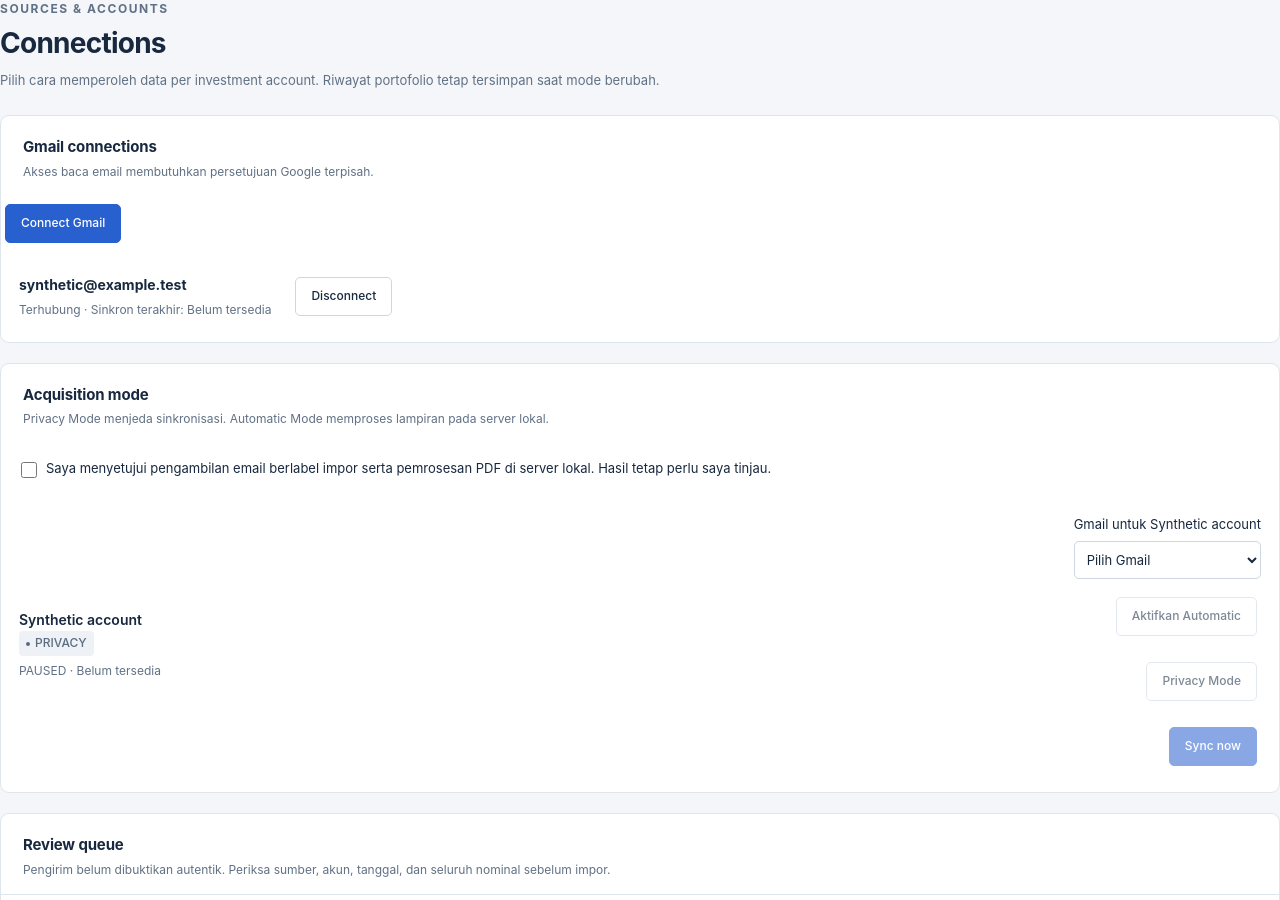
requires consent and a selected Gmail then shows mode/status without a reload
Expected: the button "Aktifkan Automatic" is disabled, [1116,597,1257,636]
Select "synthetic@example.test" in the dropdown. click: (1167,560)
box: [1074,541,1261,579]
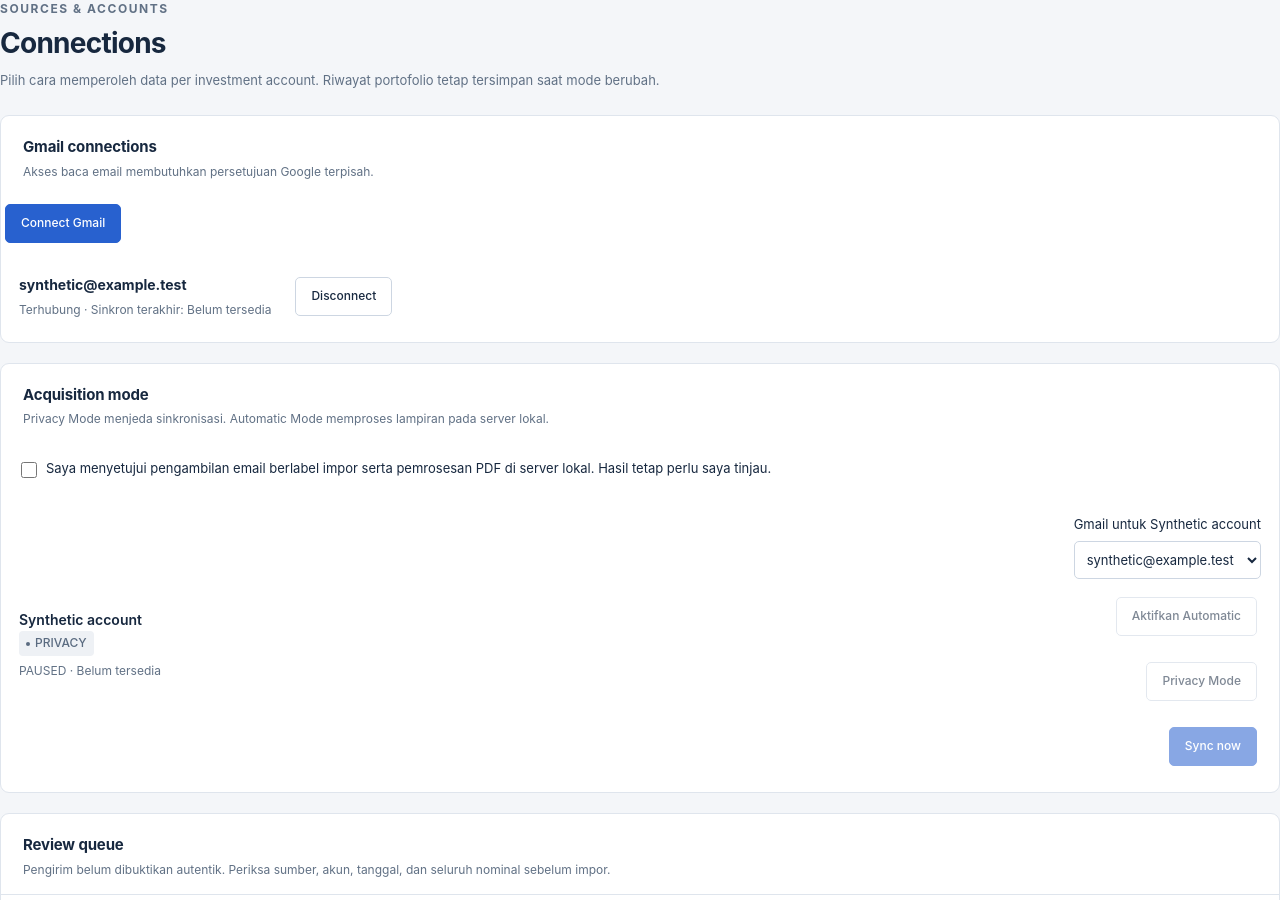
Click the checkbox. click: (29,470)
box: [21,462,37,478]
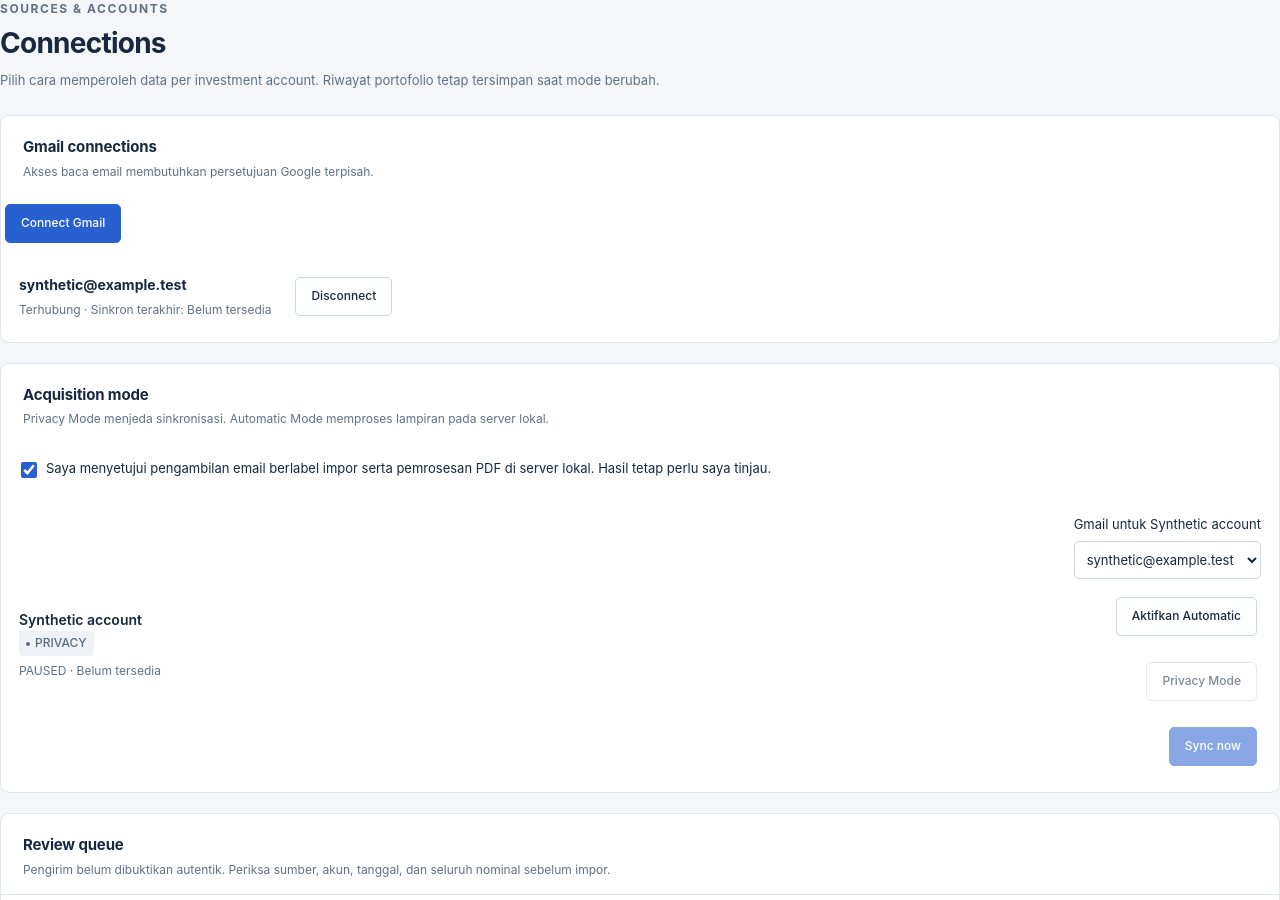
Click the button "Aktifkan Automatic". click: (1186,616)
box: [1116,597,1257,636]
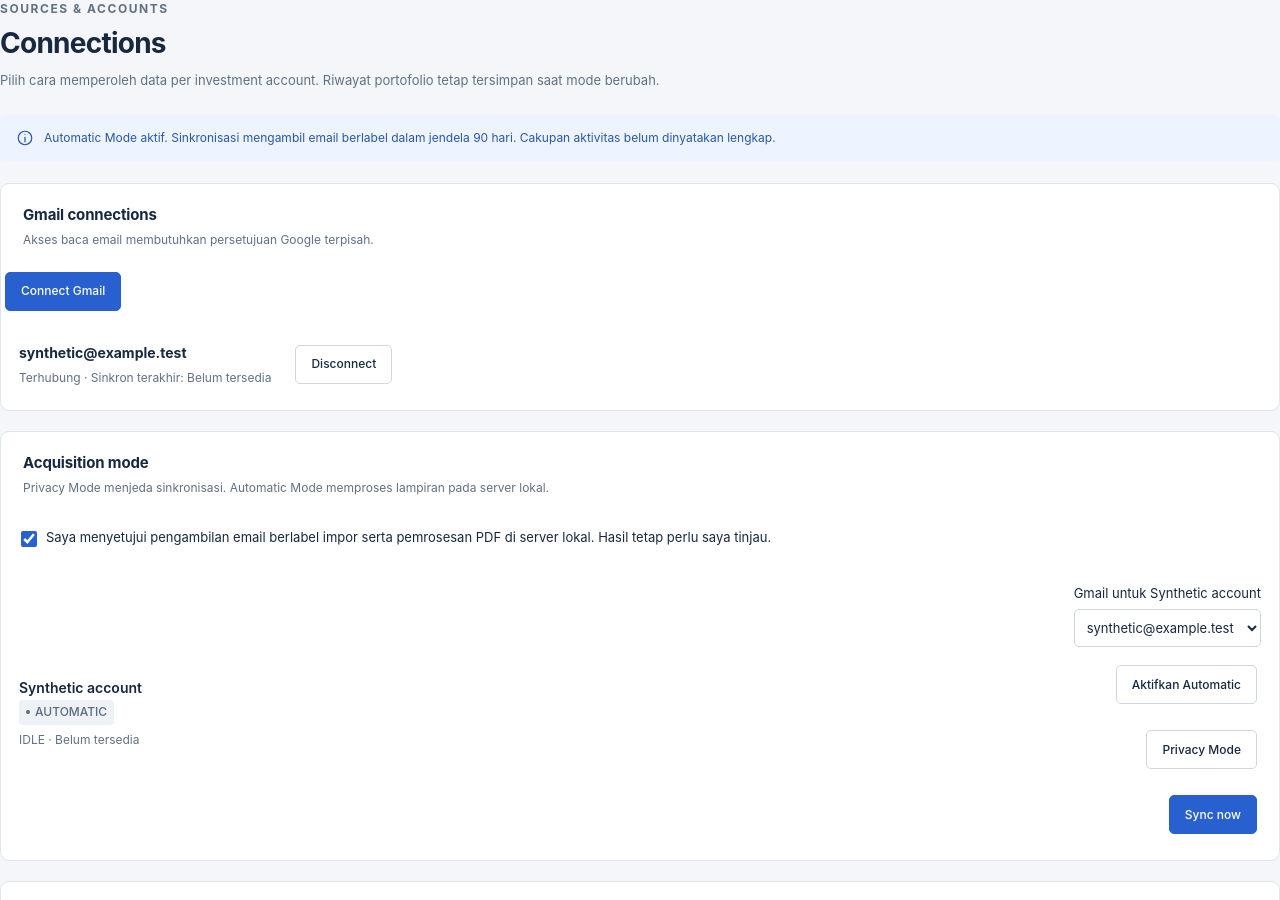
Expected: the text "AUTOMATIC" is shown, [19,700,114,725]
Expected: the button "Sync now" is enabled, [1169,795,1257,834]
